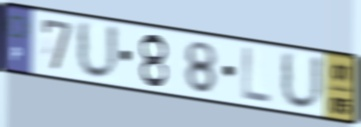7: (39, 17, 74, 72)
8: (182, 40, 220, 95), (138, 32, 169, 89)
L: (239, 44, 273, 107)
U: (75, 17, 122, 84), (279, 47, 326, 114)
